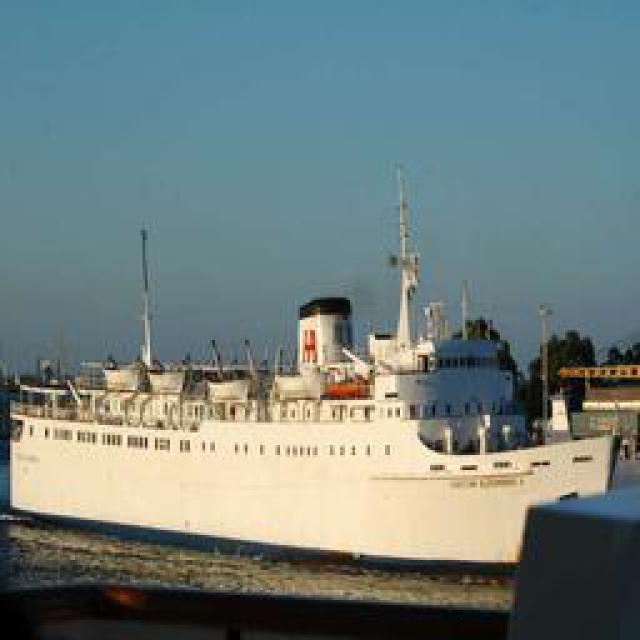Ship: (17, 156, 620, 589)
